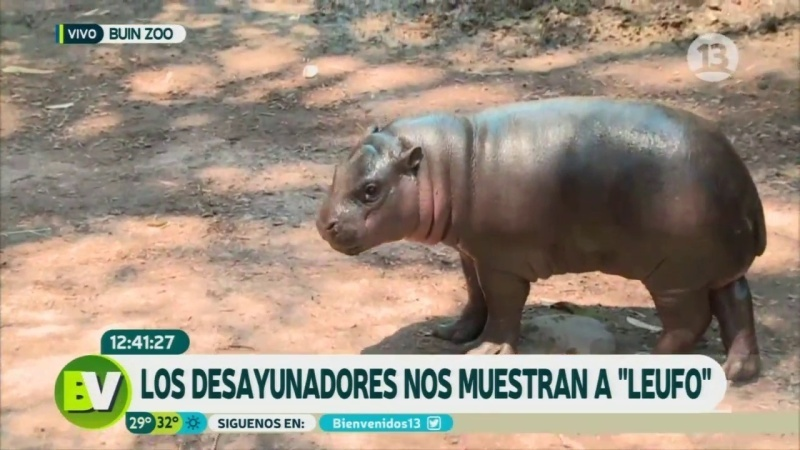hipopotamo: (291, 87, 773, 352)
